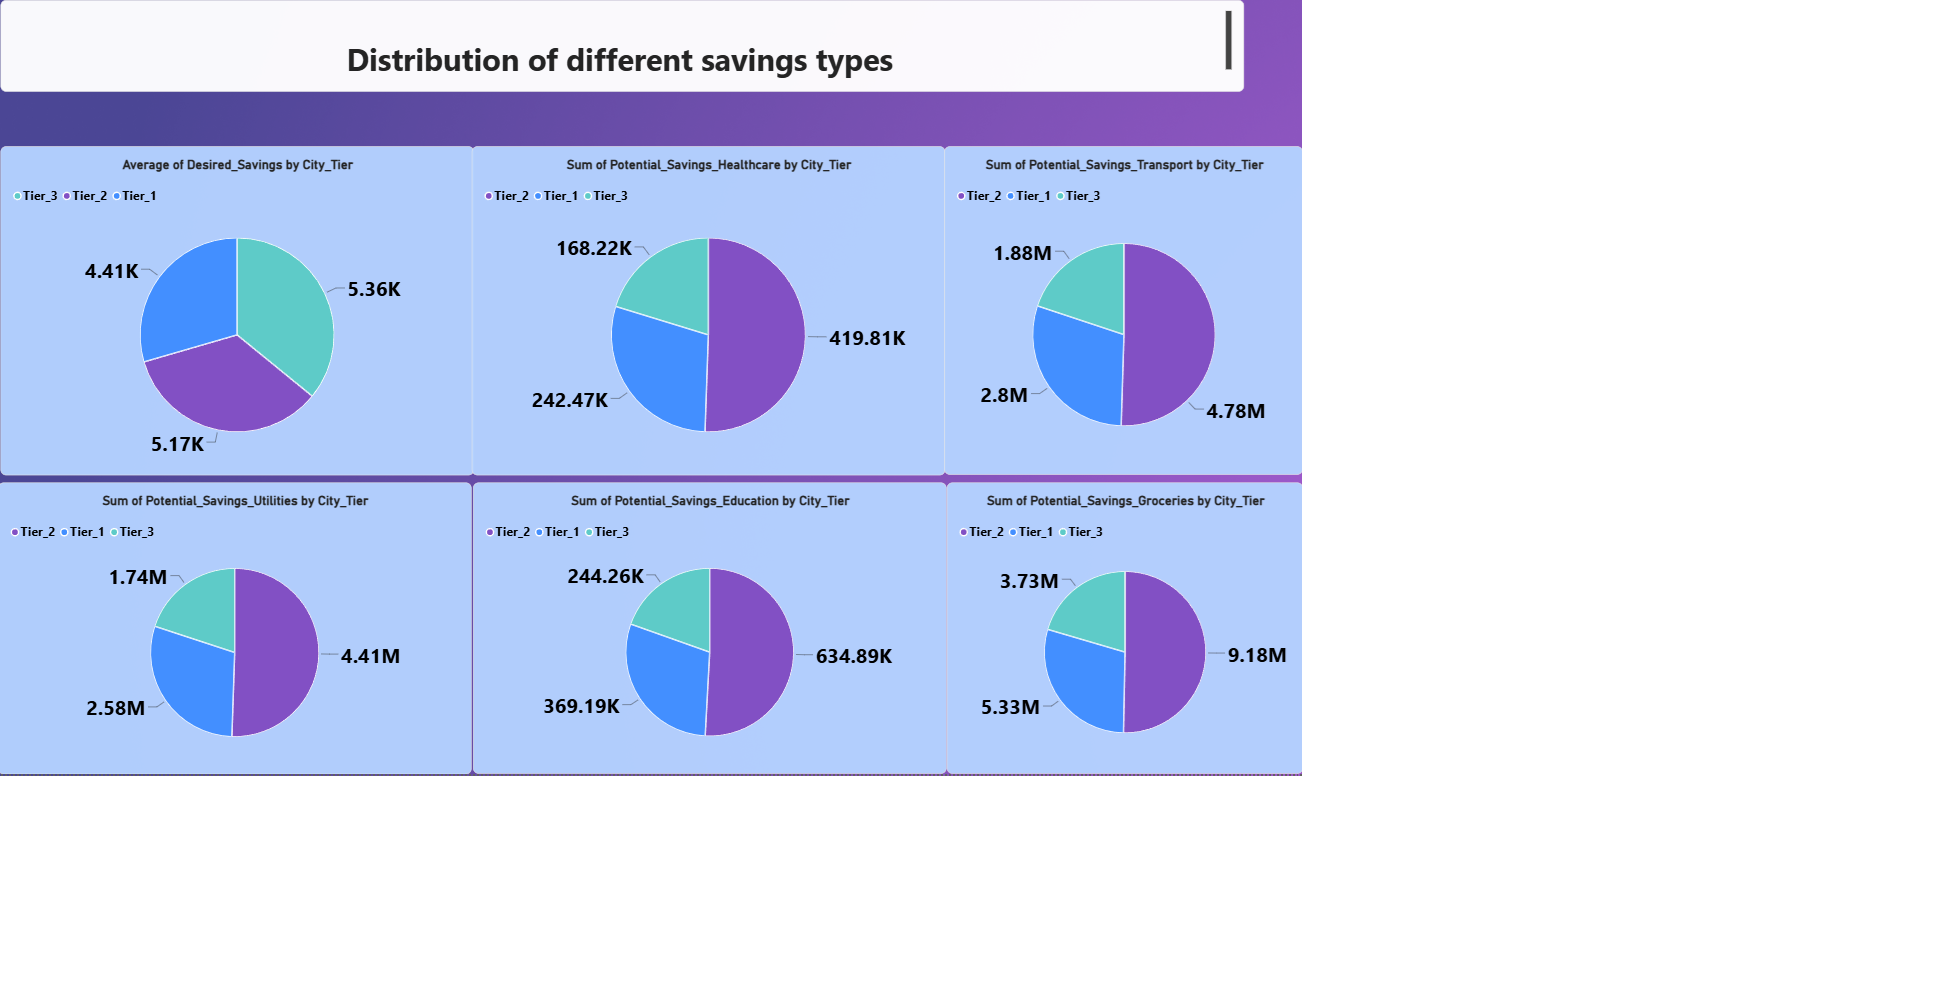

Layout of this report page (visuals, bound fields, positions):
{"tool":"powerbi","page":{"name":"Distribution of different sayings","canvas":[1920,1080],"ordinal":1},"visuals":[{"type":"textbox","box":[100.9,0,1735.2,127.6],"z":0},{"type":"pieChart","fields":{"Category":["data.City_Tier"],"Y":["Avg(data.Desired_Savings)"]},"box":[100.9,203.8,660.7,459],"z":1000},{"type":"pieChart","fields":{"Category":["data.City_Tier"],"Y":["Sum(data.Potential_Savings_Healthcare)"]},"box":[758.6,204,660.7,459],"z":2000},{"type":"pieChart","fields":{"Category":["data.City_Tier"],"Y":["Sum(data.Potential_Savings_Utilities)"]},"box":[98.5,673.8,661,407],"z":3000},{"type":"pieChart","fields":{"Category":["data.City_Tier"],"Y":["Sum(data.Potential_Savings_Education)"]},"box":[760.9,673.8,661,406],"z":4000},{"type":"pieChart","fields":{"Category":["data.City_Tier"],"Y":["Sum(data.Potential_Savings_Transport)"]},"box":[1418.6,204,501.9,458.3],"z":5000},{"type":"pieChart","fields":{"Category":["data.City_Tier"],"Y":["Sum(data.Potential_Savings_Groceries)"]},"box":[1422,674,498,406],"z":6000}]}

Visuals, with their boxes on the page's 1920x1080 design canvas (x1, y1, x2, y2). These are canvas units, not pixel positions in the 1948x984 screenshot, which may show the page scaled, cropped or inside an application window:
textbox: x1=101, y1=0, x2=1836, y2=128
pieChart - data.City_Tier x Avg(data.Desired_Savings): x1=101, y1=204, x2=762, y2=663
pieChart - data.City_Tier x Sum(data.Potential_Savings_Healthcare): x1=759, y1=204, x2=1419, y2=663
pieChart - data.City_Tier x Sum(data.Potential_Savings_Utilities): x1=98, y1=674, x2=760, y2=1081
pieChart - data.City_Tier x Sum(data.Potential_Savings_Education): x1=761, y1=674, x2=1422, y2=1080
pieChart - data.City_Tier x Sum(data.Potential_Savings_Transport): x1=1419, y1=204, x2=1920, y2=662
pieChart - data.City_Tier x Sum(data.Potential_Savings_Groceries): x1=1422, y1=674, x2=1920, y2=1080
